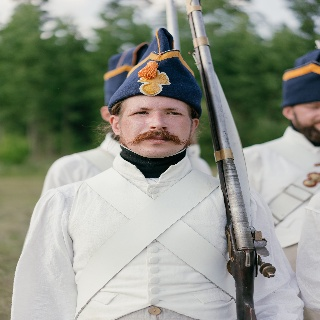rifle: (184, 1, 276, 320)
